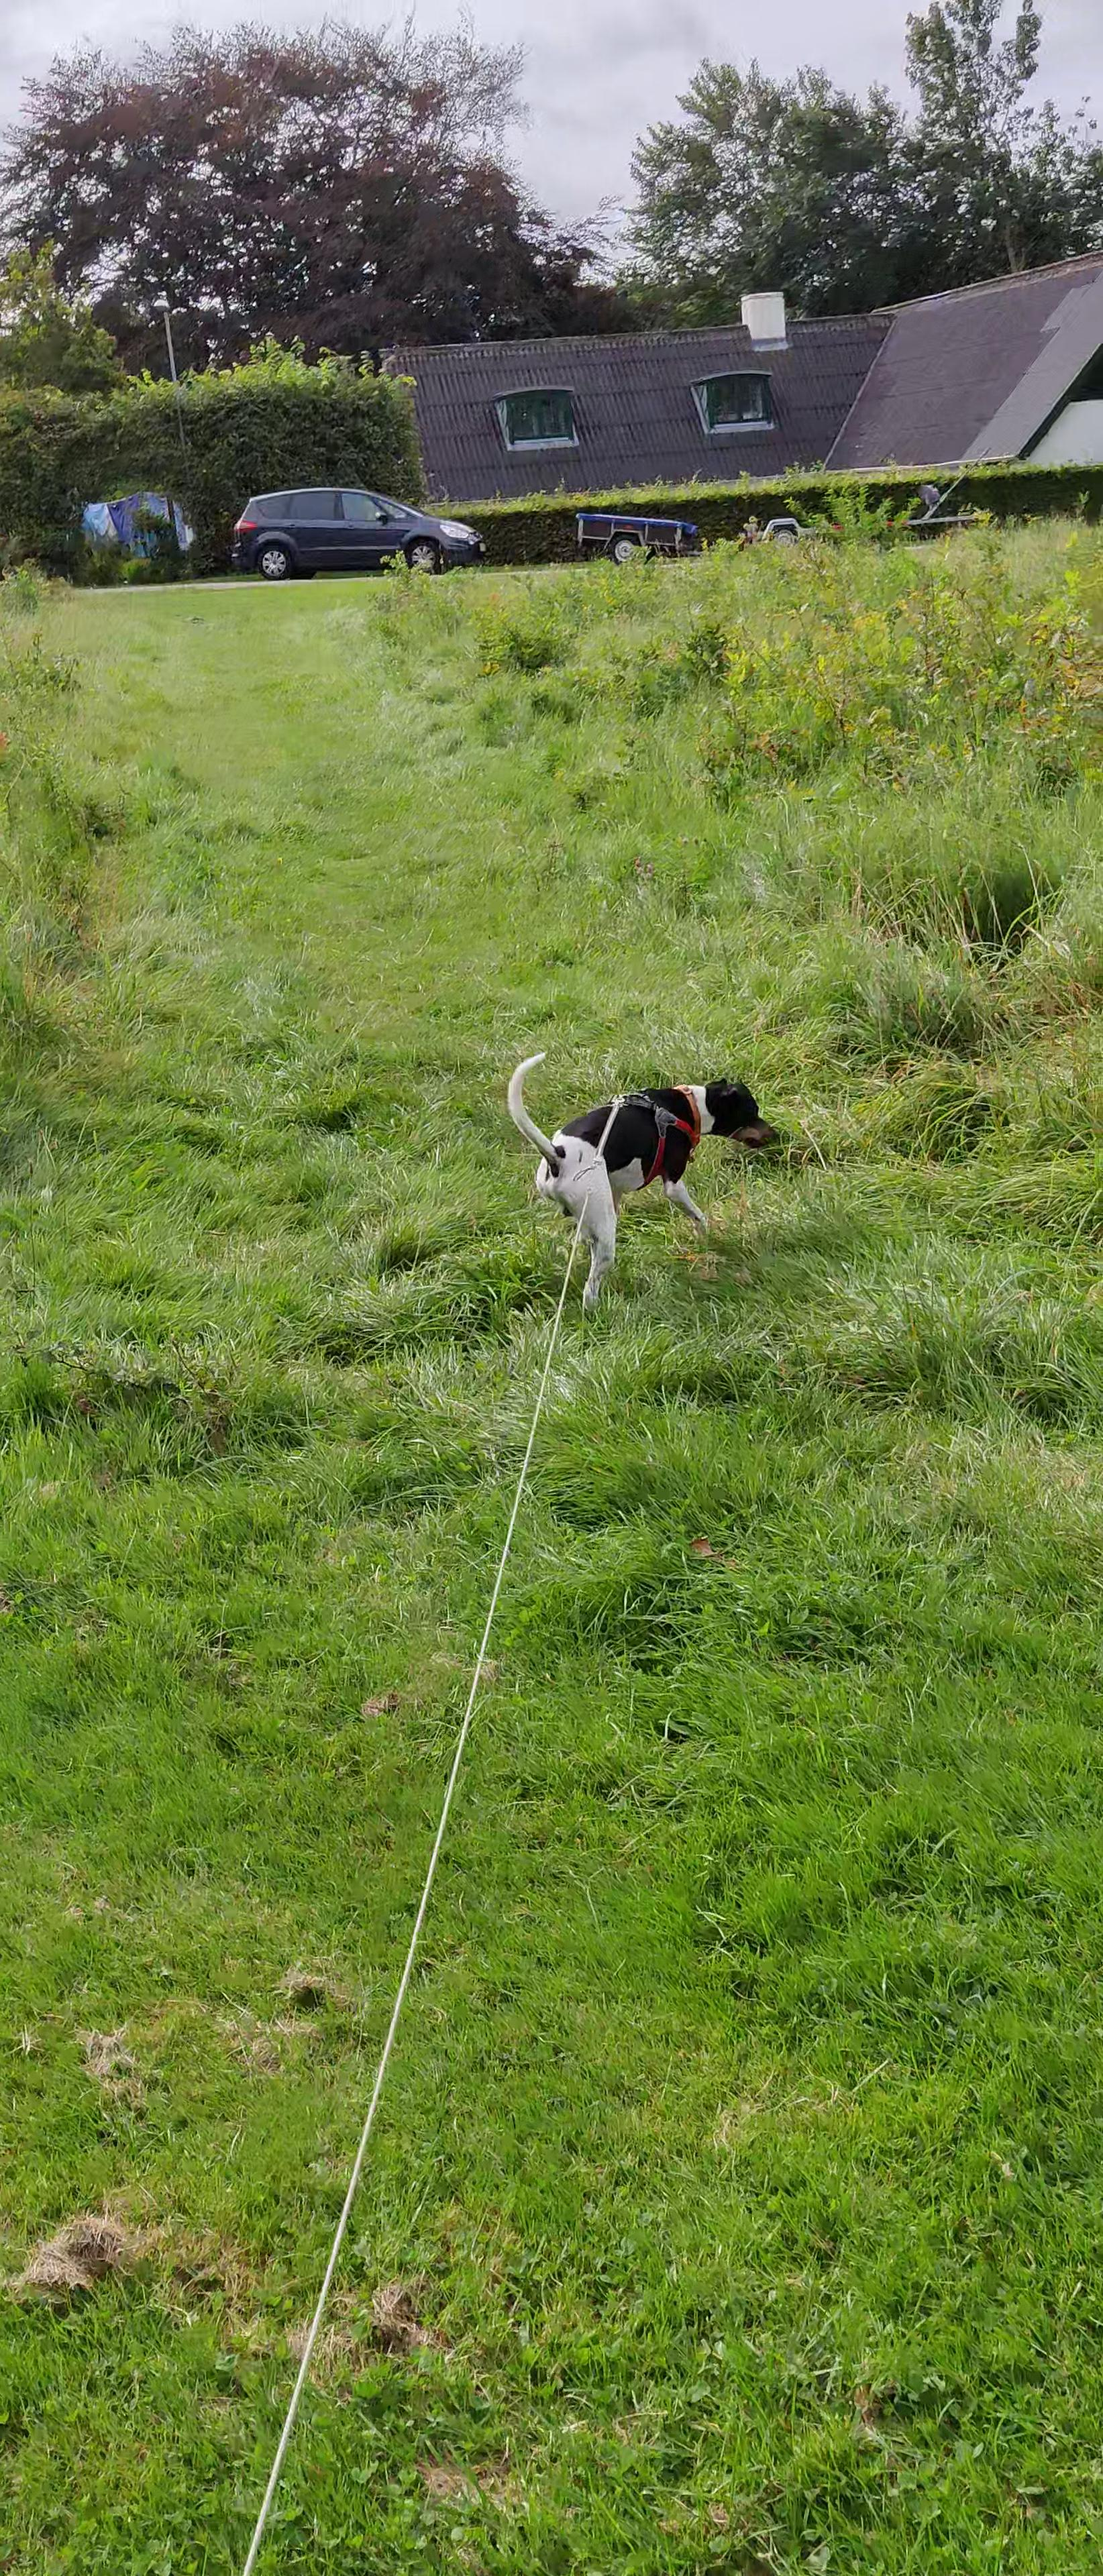Dog: (500, 1043, 786, 1311)
